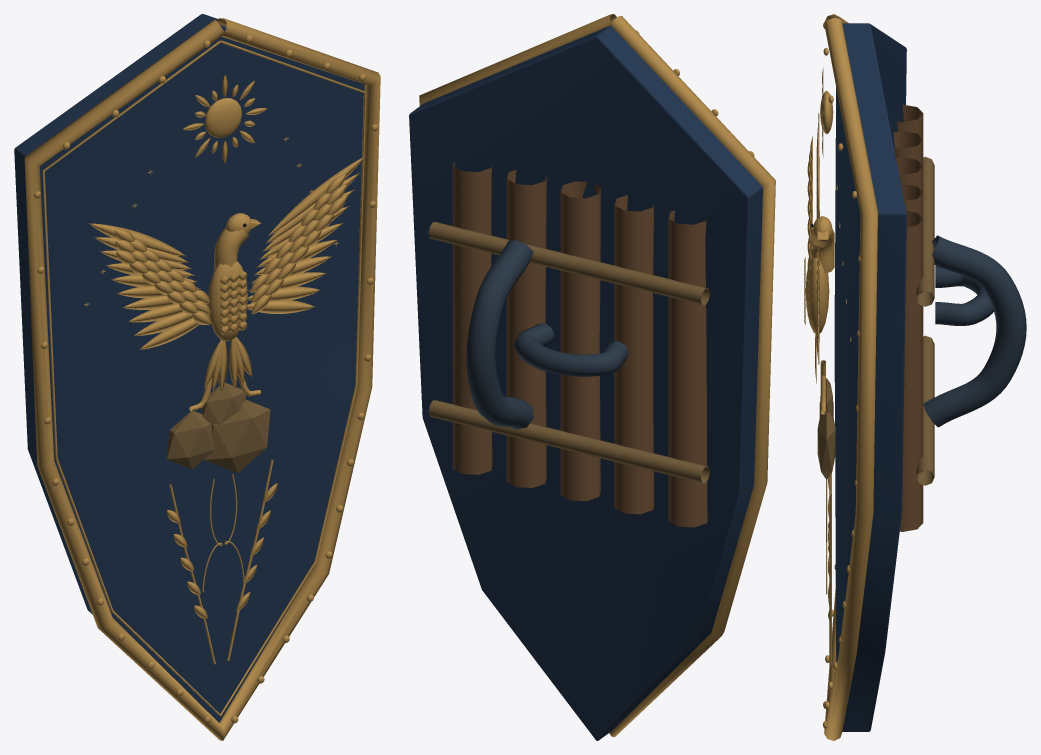
Rendered from EDH_Heinrich_Shield.glb.
3 views of the same model, side by side, from view 1: azimuth 30°, elevation 25°; view 2: azimuth 150°, elevation 25°; view 3: azimuth 270°, elevation 25° (orthographic).
Parts seen in each view (by area): view 1: Shield | convex enamel shell, Shield | solid brass perimeter, Shield | inner gold pinstripe, Shield | heraldic rock.001, Shield | heraldic rock, Shield | sculpted eagle torso, Shield | heraldic rock.002, Shield | sun disc, Shield | eagle neck, Shield | primary flight feather.019, Shield | primary flight feather.009, Shield | primary flight feather (+1 smaller); view 2: Shield | convex enamel shell, Shield | solid brass perimeter, Shield | timber rear rib.001, Shield | timber rear rib, Shield | timber rear rib.002, Shield | timber rear rib.003, Shield | timber rear rib.004, Shield | forearm strap, Shield | rear cross brace, Shield | rear cross brace.001, Shield | hand grip; view 3: Shield | convex enamel shell, Shield | solid brass perimeter, Shield | forearm strap, Shield | timber rear rib.004, Shield | hand grip, Shield | rear cross brace.001, Shield | rear cross brace, Shield | sculpted eagle torso, Shield | heraldic rock.001, Shield | timber rear rib.001, Shield | timber rear rib.002, Shield | eagle neck (+4 smaller).
Boxes of the visible parts, left/top/right/bottom form: Shield | convex enamel shell: left=14, top=14, right=364, bottom=722; Shield | solid brass perimeter: left=24, top=18, right=380, bottom=740; Shield | inner gold pinstripe: left=42, top=40, right=366, bottom=716; Shield | heraldic rock.001: left=204, top=399, right=270, bottom=473; Shield | heraldic rock: left=167, top=411, right=214, bottom=469; Shield | sculpted eagle torso: left=208, top=261, right=247, bottom=341; Shield | heraldic rock.002: left=201, top=382, right=245, bottom=425; Shield | sun disc: left=204, top=98, right=241, bottom=137; Shield | eagle neck: left=214, top=227, right=249, bottom=270; Shield | primary flight feather.019: left=269, top=157, right=363, bottom=234; Shield | primary flight feather.009: left=90, top=223, right=184, bottom=256; Shield | primary flight feather: left=141, top=314, right=209, bottom=349; Shield | convex enamel shell: left=409, top=26, right=762, bottom=740; Shield | solid brass perimeter: left=419, top=14, right=775, bottom=737; Shield | timber rear rib.001: left=614, top=195, right=654, bottom=514; Shield | timber rear rib: left=668, top=210, right=707, bottom=527; Shield | timber rear rib.002: left=560, top=181, right=600, bottom=501; Shield | timber rear rib.003: left=506, top=170, right=546, bottom=487; Shield | timber rear rib.004: left=452, top=160, right=492, bottom=474; Shield | forearm strap: left=466, top=240, right=533, bottom=429; Shield | rear cross brace: left=428, top=400, right=709, bottom=483; Shield | rear cross brace.001: left=428, top=222, right=709, bottom=304; Shield | hand grip: left=514, top=323, right=628, bottom=376; Shield | convex enamel shell: left=834, top=23, right=906, bottom=731; Shield | solid brass perimeter: left=824, top=14, right=878, bottom=740; Shield | forearm strap: left=923, top=235, right=1026, bottom=427; Shield | timber rear rib.004: left=899, top=211, right=923, bottom=531; Shield | hand grip: left=935, top=265, right=993, bottom=325; Shield | rear cross brace.001: left=916, top=156, right=934, bottom=306; Shield | rear cross brace: left=916, top=335, right=934, bottom=485; Shield | sculpted eagle torso: left=805, top=257, right=829, bottom=333; Shield | heraldic rock.001: left=817, top=411, right=835, bottom=479; Shield | timber rear rib.001: left=893, top=131, right=923, bottom=165; Shield | timber rear rib.002: left=896, top=157, right=923, bottom=191; Shield | eagle neck: left=811, top=229, right=834, bottom=273.
Size of the model in its own units: 0.6242 by 1.22 by 0.338.
